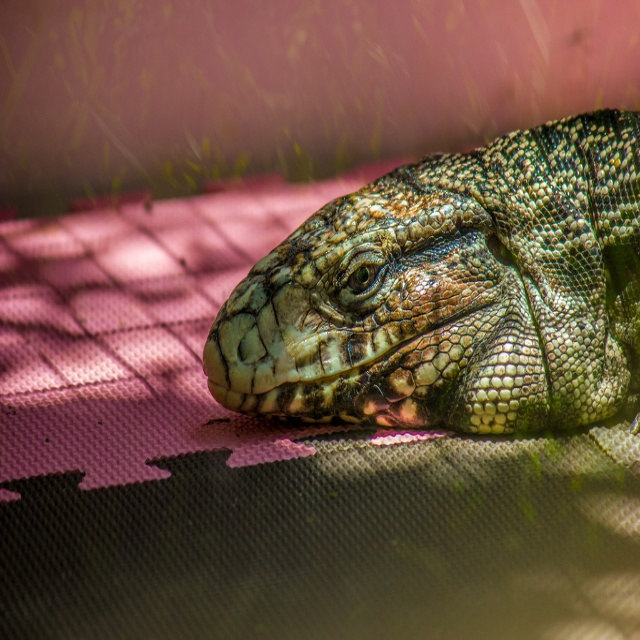Lizard: (204, 109, 638, 429)
